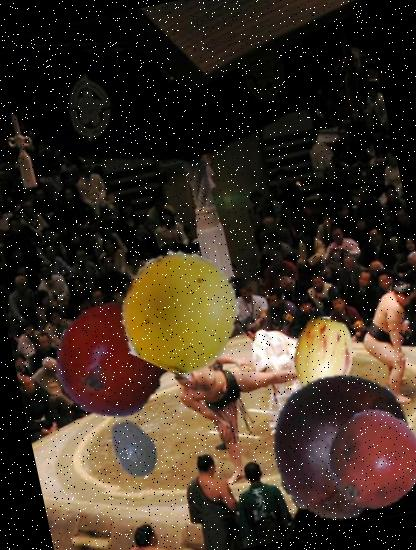Avocado: (96, 412, 172, 488)
Cauliflower: (274, 424, 374, 524)
Chestnut: (252, 355, 416, 528)
Grape: (110, 242, 250, 382)
Pepino: (270, 308, 376, 414)
Pomegranate: (44, 294, 180, 428), (316, 402, 416, 518)
